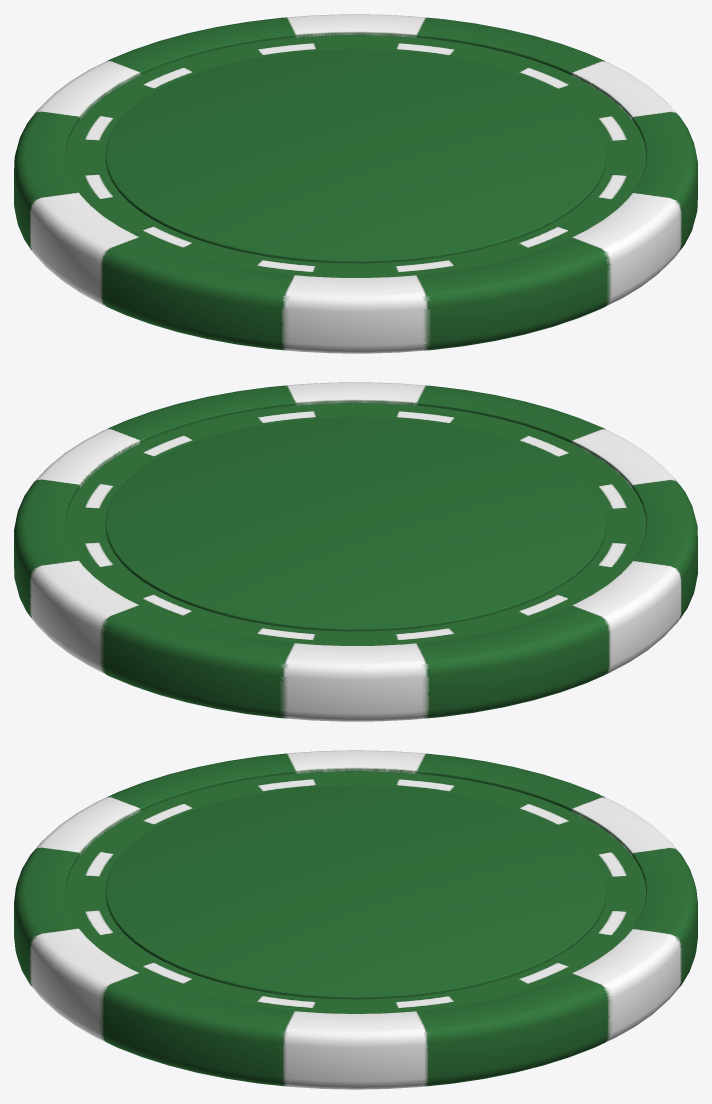
The model's file is green_white.glb.
3 renders of one model, top to bottom at view 1: azimuth 30°, elevation 25°; view 2: azimuth 150°, elevation 25°; view 3: azimuth 270°, elevation 25°, orthographic.
Parts seen in each view (by area): view 1: chips.178_chips_green_bake_0; view 2: chips.178_chips_green_bake_0; view 3: chips.178_chips_green_bake_0.
Boxes of the visible parts, x1,y1,x2,y2 form: chips.178_chips_green_bake_0: (14, 14, 697, 353); chips.178_chips_green_bake_0: (14, 382, 697, 721); chips.178_chips_green_bake_0: (14, 750, 697, 1089).
Bounding box in the file's own units: 2 × 0.1883 × 2.
1 material, 1 textured.
